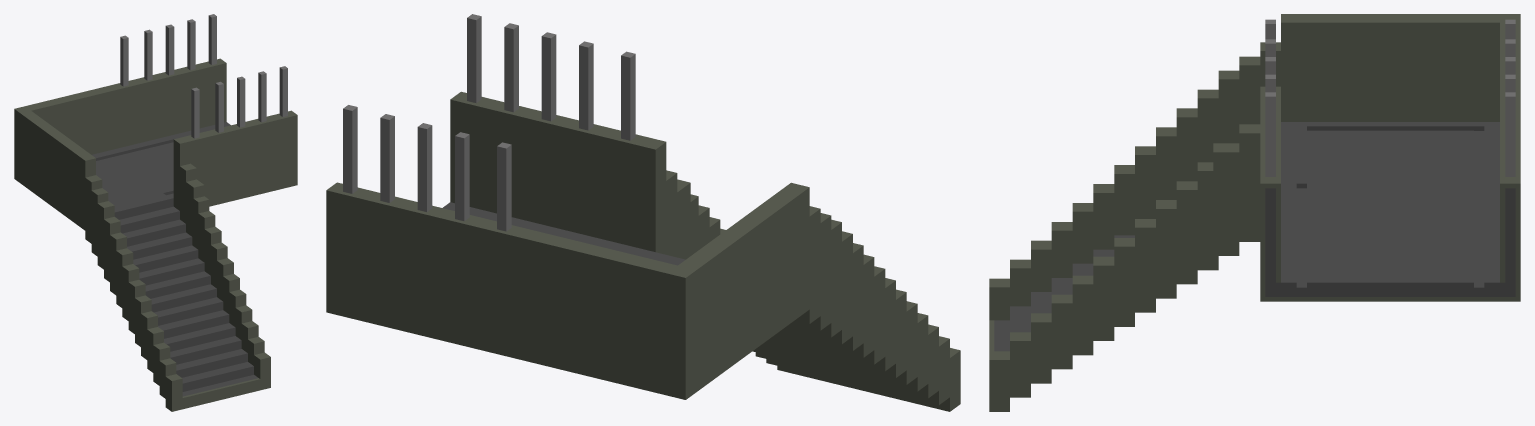
Rendered from Bridge-2.obj.
3 views of the same model, side by side, from view 1: azimuth 30°, elevation 25°; view 2: azimuth 150°, elevation 25°; view 3: azimuth 270°, elevation 25° (orthographic). The views are drawn at different scales.
Bounding box in the file's own units: 7.7 × 8.4 × 10.2.
Materials: 1 (1 with a texture image).
